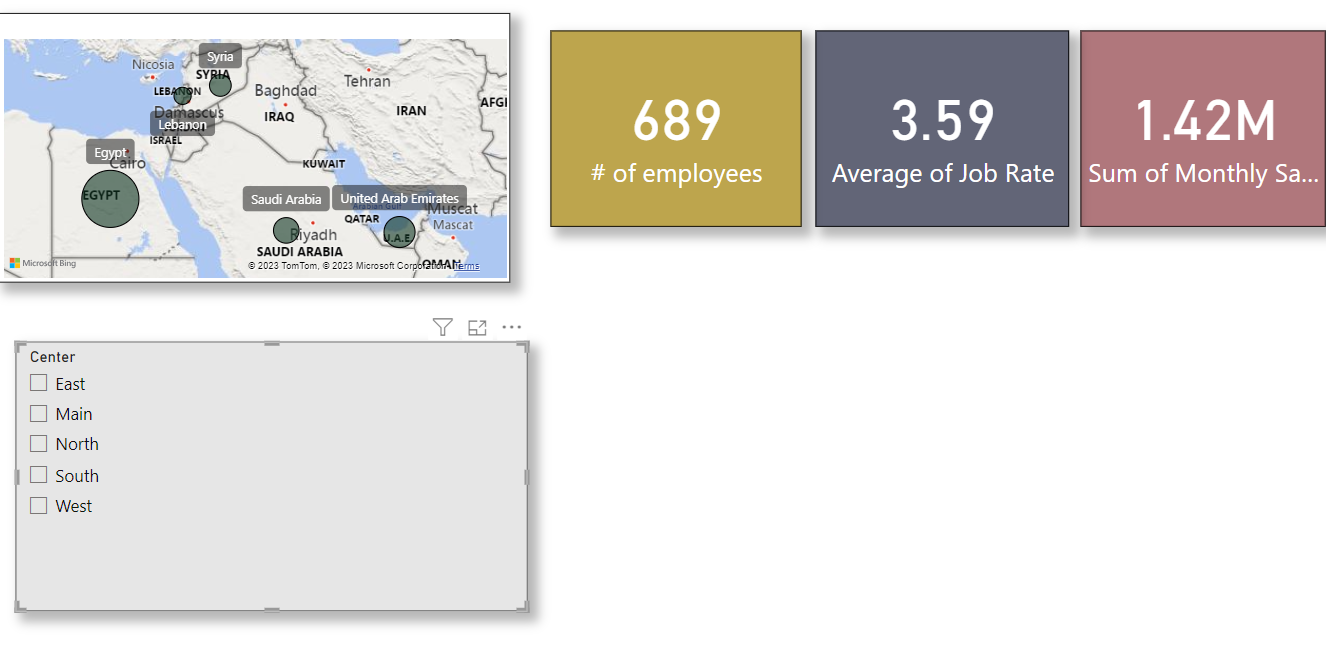

What the dashboard file says about the page in this screenshot:
{"tool":"powerbi","page":{"name":"Page 2","canvas":[1280,720],"ordinal":1},"visuals":[{"type":"map","title":" ","fields":{"Category":["EmpTable.Country"],"Size":["Sum(EmpTable.No)"]},"box":[0,47.5,486.7,256.4],"z":0},{"type":"card","fields":{"Values":["Sum(EmpTable.Monthly Salary)"]},"box":[1027.9,64.1,232.6,186.4],"z":1000},{"type":"card","fields":{"Values":["Avg(EmpTable.Job Rate)"]},"box":[776.3,64.1,241,186.4],"z":2000},{"type":"card","fields":{"Values":["CountNonNull(EmpTable.No)"]},"box":[524.6,64.1,238.6,186.4],"z":3000},{"type":"slicer","fields":{"Values":["EmpTable.Center"]},"box":[16.6,359.6,486.7,256.4],"z":4000}]}

Visuals, with their boxes on the page's 1280x720 design canvas (x1, y1, x2, y2). These are canvas units, not pixel positions in the 1326x653 screenshot, which may show the page scaled, cropped or inside an application window:
" " map: bbox(0, 48, 487, 304)
card - Sum(EmpTable.Monthly Salary): bbox(1028, 64, 1260, 250)
card - Avg(EmpTable.Job Rate): bbox(776, 64, 1017, 250)
card - CountNonNull(EmpTable.No): bbox(525, 64, 763, 250)
slicer - EmpTable.Center: bbox(17, 360, 503, 616)
